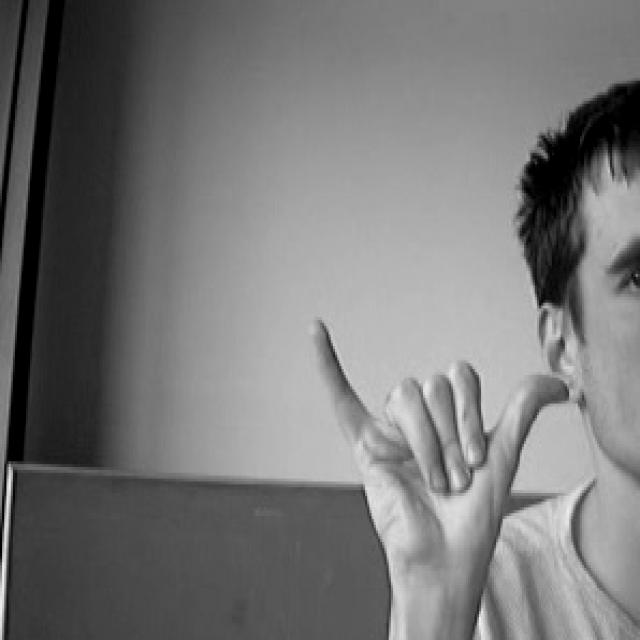Y: (298, 305, 574, 611)
